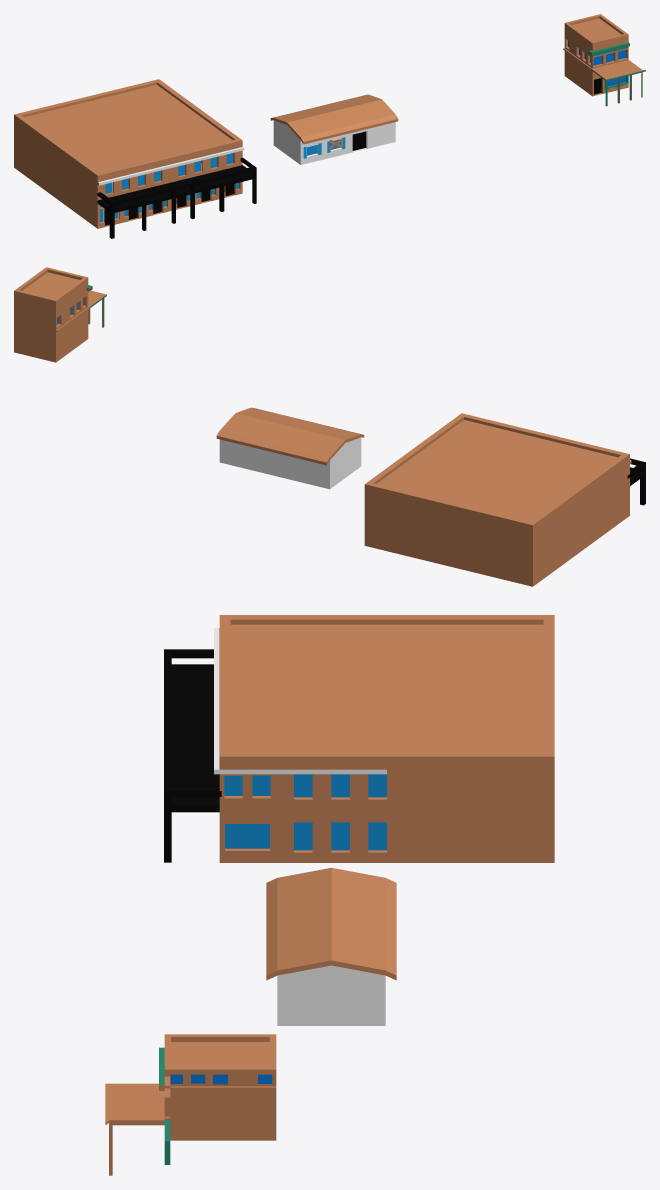
The model's file is 3buildingsDraco.glb.
3 views of the same model, one above another, from view 1: azimuth 30°, elevation 25°; view 2: azimuth 150°, elevation 25°; view 3: azimuth 270°, elevation 25° (orthographic). The views are drawn at different scales.
Visible parts, largest first — view 1: 5StoreBuilding, MobileHomeBase, 2StoreBuilding; view 2: 5StoreBuilding, MobileHomeBase, 2StoreBuilding; view 3: 5StoreBuilding, MobileHomeBase, 2StoreBuilding.
Part boxes in pixels (x1=…): 5StoreBuilding: x1=14, y1=79, x2=256, y2=238; MobileHomeBase: x1=270, y1=94, x2=398, y2=164; 2StoreBuilding: x1=563, y1=14, x2=645, y2=106; 5StoreBuilding: x1=364, y1=413, x2=645, y2=586; MobileHomeBase: x1=216, y1=407, x2=364, y2=489; 2StoreBuilding: x1=14, y1=267, x2=106, y2=362; 5StoreBuilding: x1=164, y1=615, x2=554, y2=862; MobileHomeBase: x1=266, y1=867, x2=396, y2=1025; 2StoreBuilding: x1=105, y1=1034, x2=276, y2=1175.
Size of the model in its own units: 21.62 by 3.11 by 8.09.
